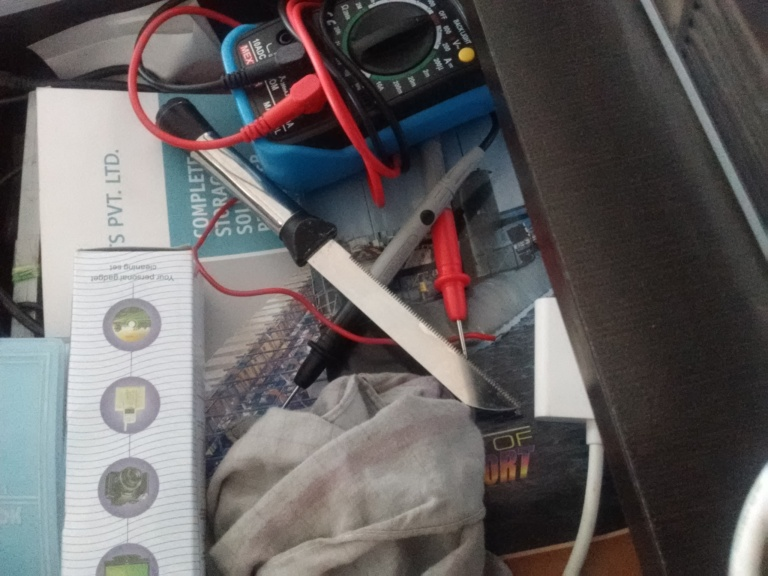knife: (150, 95, 523, 415)
